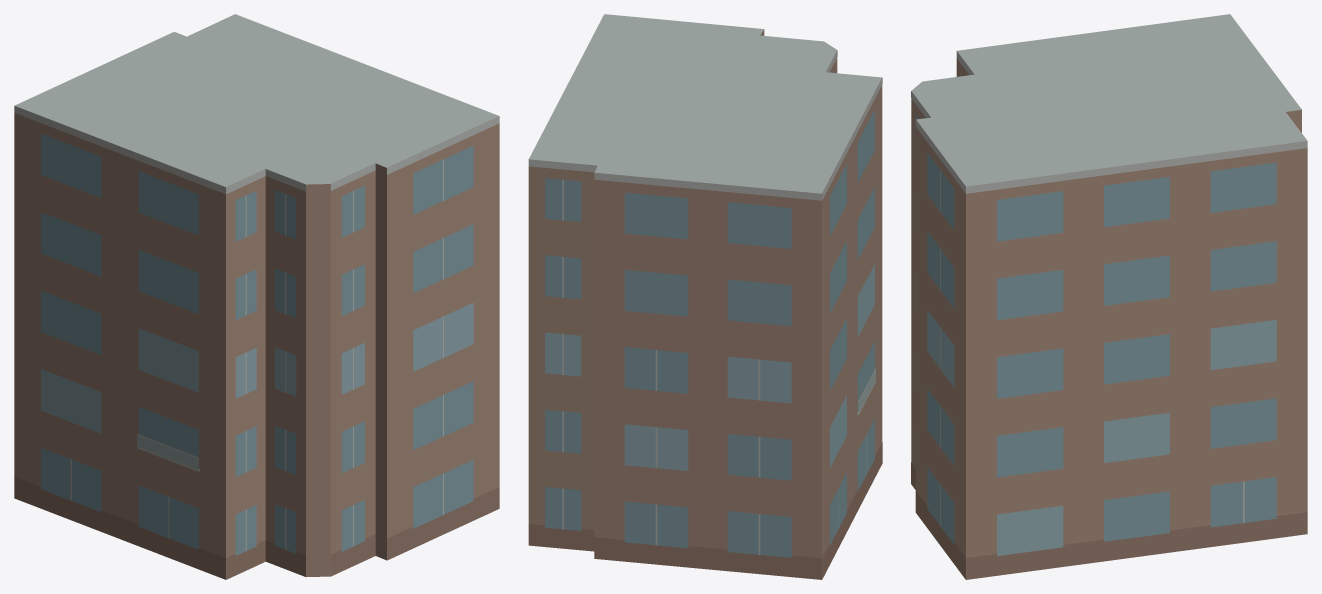
The model's file is survey-upis-32910091.glb.
The picture shows the model from 3 angles, left to right: view 1: azimuth 30°, elevation 25°; view 2: azimuth 150°, elevation 25°; view 3: azimuth 270°, elevation 25°; orthographic projection.
Visible parts, largest first — view 1: survey-upis-32910091.tmp; view 2: survey-upis-32910091.tmp; view 3: survey-upis-32910091.tmp.
Part boxes in pixels (x1,y1,x2,y2): survey-upis-32910091.tmp: (14, 14, 499, 579); survey-upis-32910091.tmp: (528, 14, 882, 579); survey-upis-32910091.tmp: (911, 14, 1307, 579).
Size of the model in its own units: 12.68 by 13.45 by 12.31.
